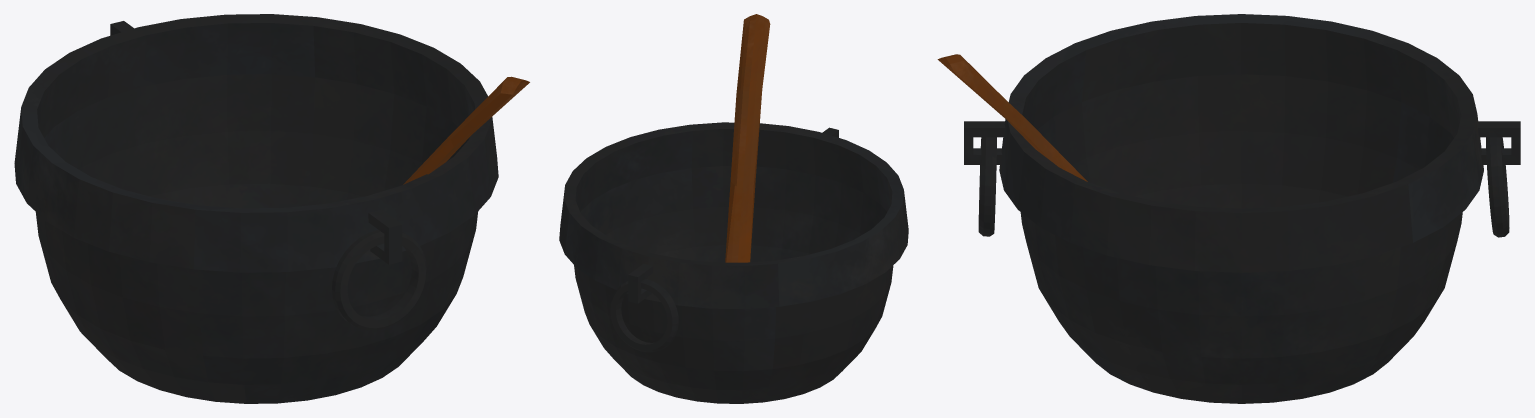
The model's file is KualiBesar.glb.
3 renders of one model, left to right at view 1: azimuth 30°, elevation 25°; view 2: azimuth 150°, elevation 25°; view 3: azimuth 270°, elevation 25°, orthographic. The views are drawn at different scales.
Parts seen in each view (by area): view 1: Cube.001, Cube.004; view 2: Cube.001, Cube.004; view 3: Cube.001, Cube.004.
Part boxes in pixels (bbox=[...]): Cube.001: bbox=[14, 14, 498, 403]; Cube.004: bbox=[403, 76, 529, 184]; Cube.001: bbox=[559, 122, 908, 403]; Cube.004: bbox=[725, 14, 770, 262]; Cube.001: bbox=[964, 14, 1520, 403]; Cube.004: bbox=[937, 54, 1087, 181].
Size of the model in its own units: 6.07 by 4.64 by 7.3.
Materials: 2 (2 with a texture image).
